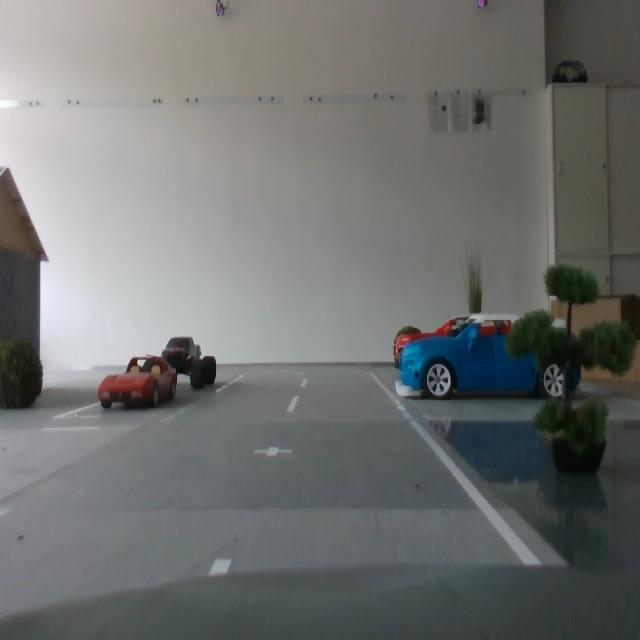car: (399, 313, 582, 400), (395, 316, 580, 395), (98, 354, 178, 409), (159, 333, 220, 394)
potted plant: (507, 263, 639, 473), (3, 335, 46, 413), (461, 251, 485, 355), (394, 327, 426, 369)
